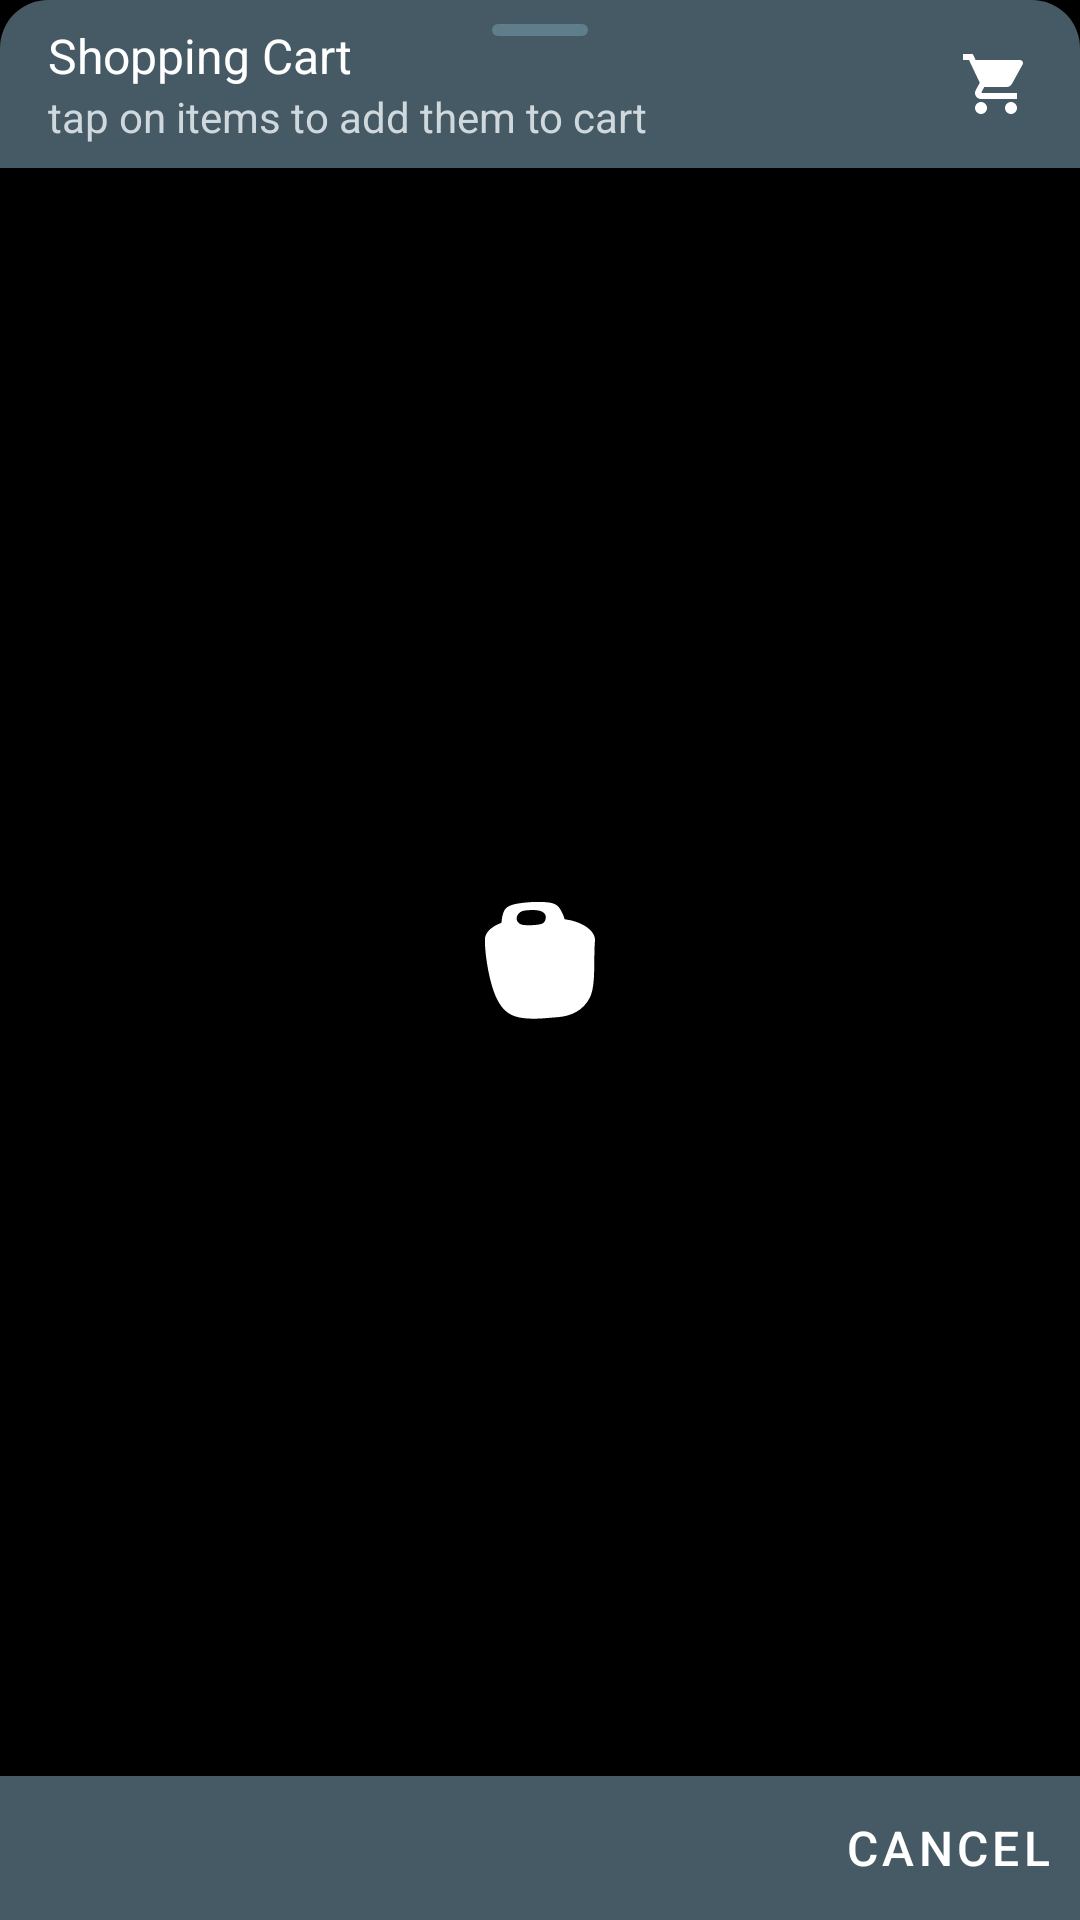

Named icons in this screenshot (1080w x 1920h) and their bounding boxes, box(x1, y1, x2, y2):
shopping cart: box(963, 54, 1023, 114)
